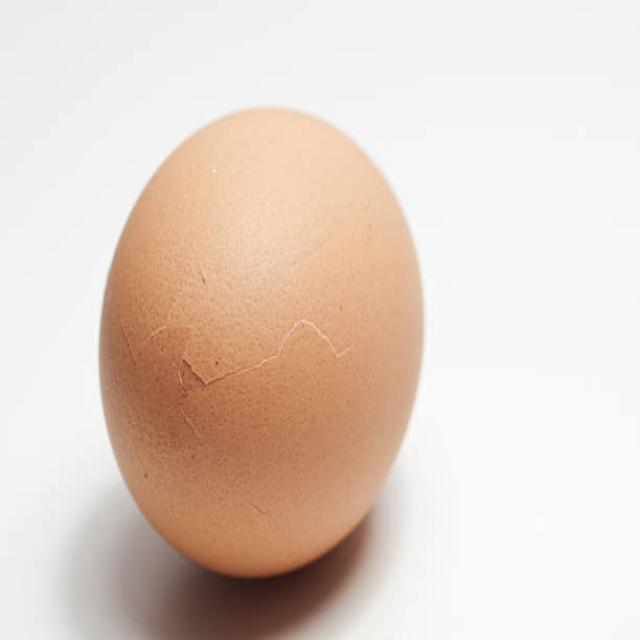Crack: (138, 264, 393, 445)
Egg: (87, 109, 452, 588)
